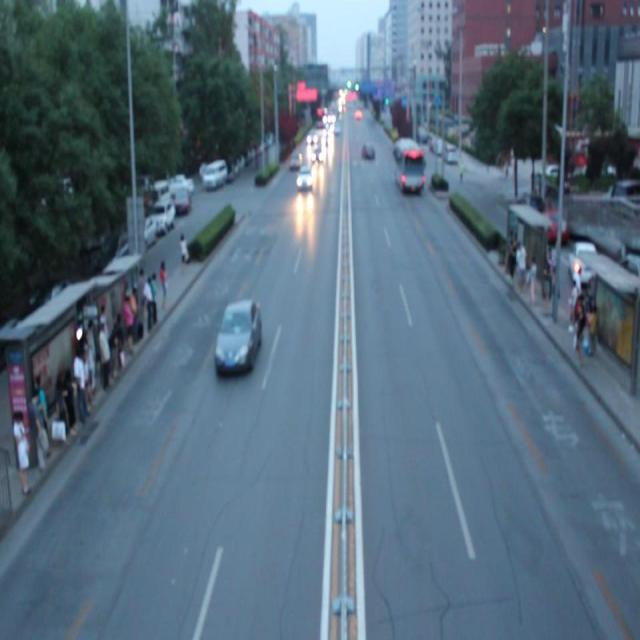car: (215, 302, 260, 371), (296, 169, 312, 190), (361, 143, 374, 159), (289, 152, 301, 169), (311, 148, 323, 162)
van: (393, 140, 423, 191)
